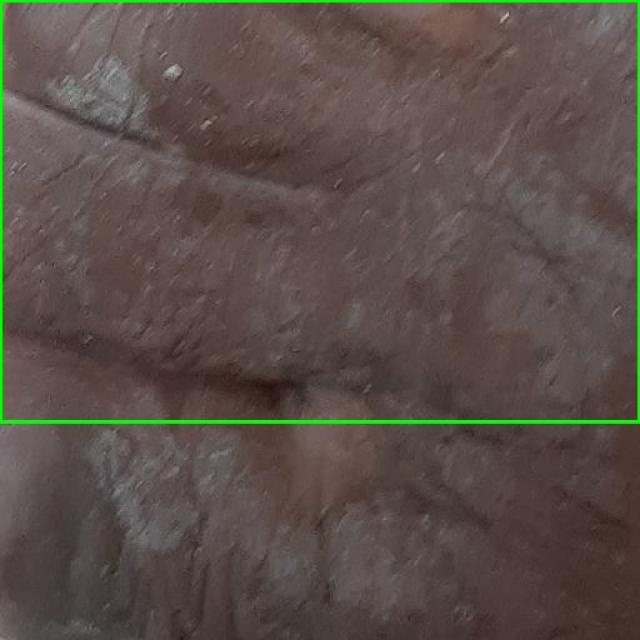Eczema: (0, 0, 639, 421)
